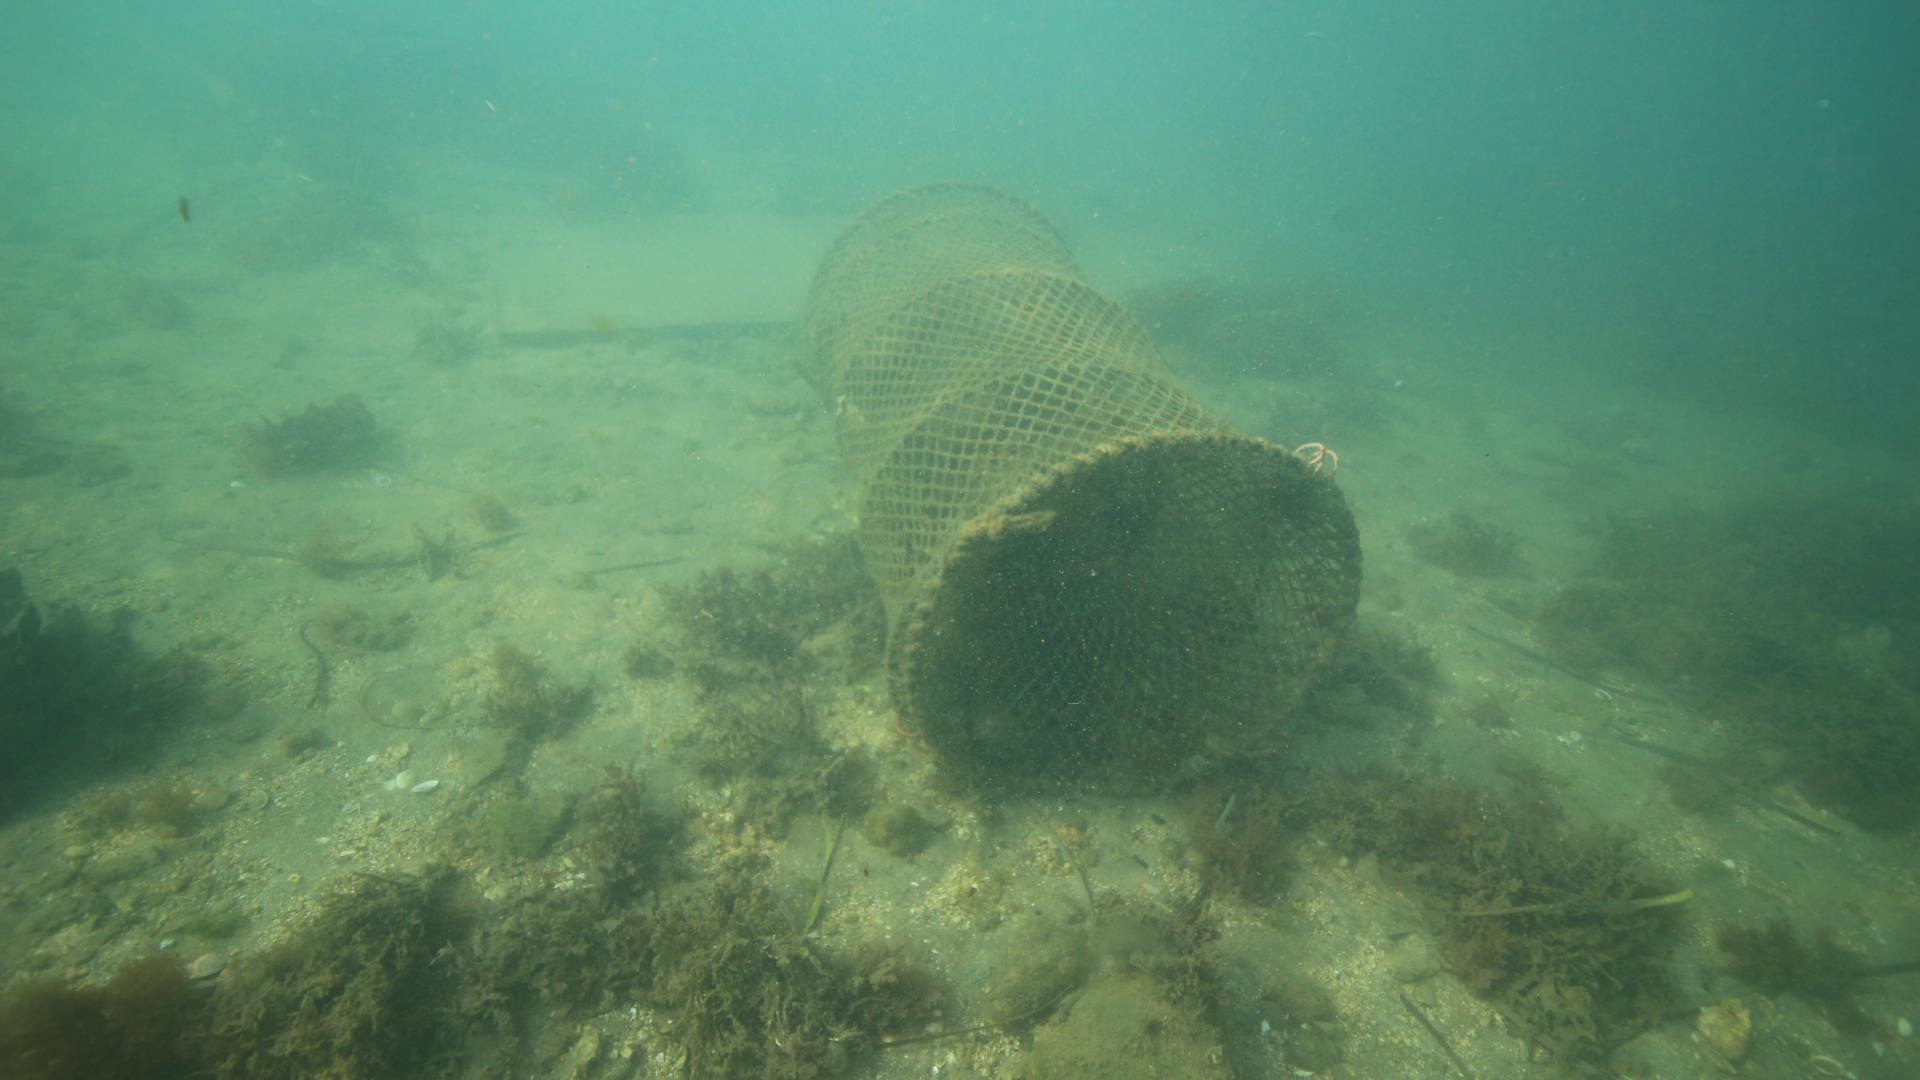spring fish trap: (790, 177, 1364, 806)
